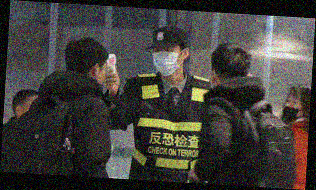with_mask: (150, 47, 181, 78), (281, 96, 302, 124)
